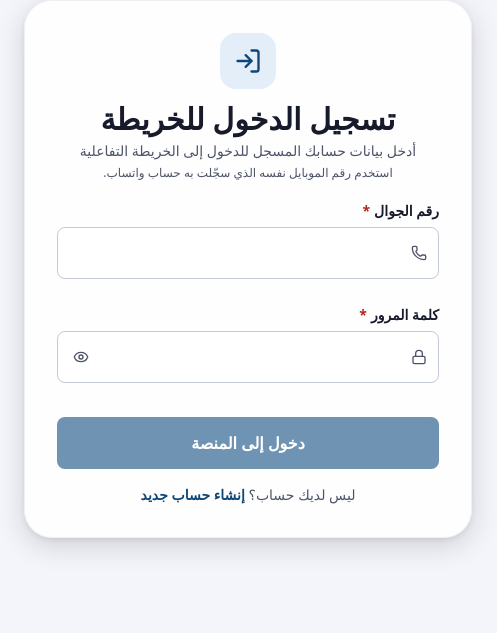
Scenario: LoginPage › shows the server message on wrong credentials and stays on the page
Step 1. Type "0590000001" into the field labelled "رقم الجوال*" → (248, 253), box top-left (57, 227), bottom-right (439, 279)
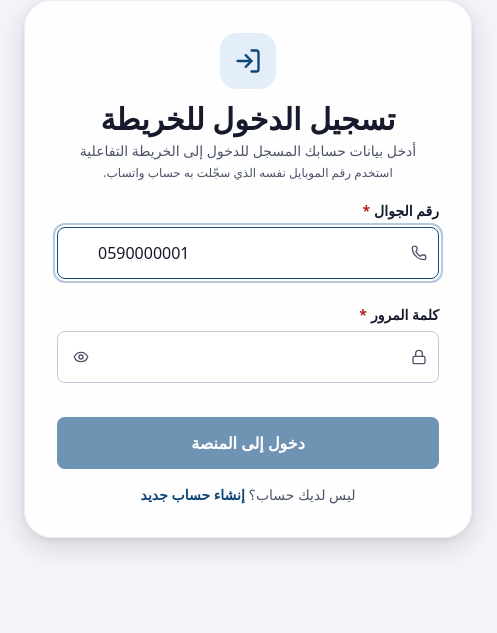
Step 2. Type "bad" into the password field labelled "كلمة المرور*" → (248, 357), box top-left (57, 331), bottom-right (439, 383)
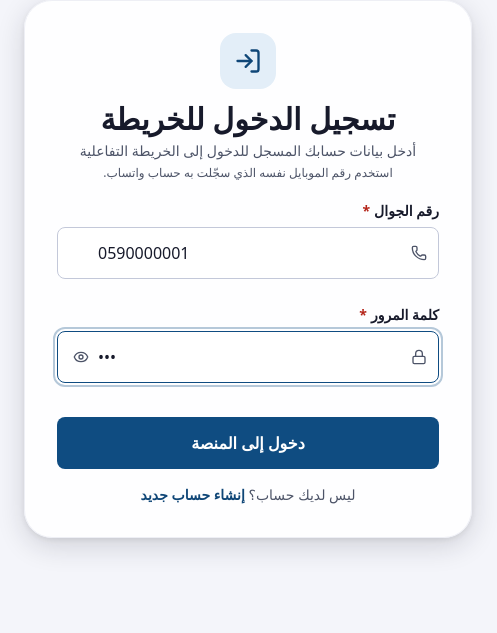
Step 3. Click the button "دخول إلى المنصة" → click(248, 443), box top-left (57, 417), bottom-right (439, 469)
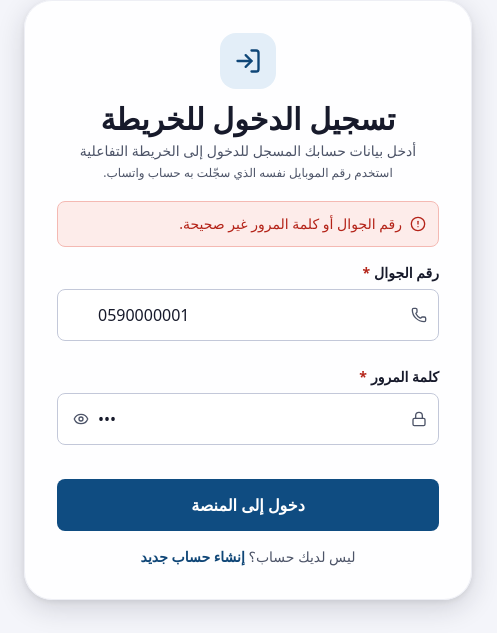
Expected: the message reads "رقم الجوال أو كلمة المرور غير صحيحة.", top-left (179, 214), bottom-right (402, 233)
